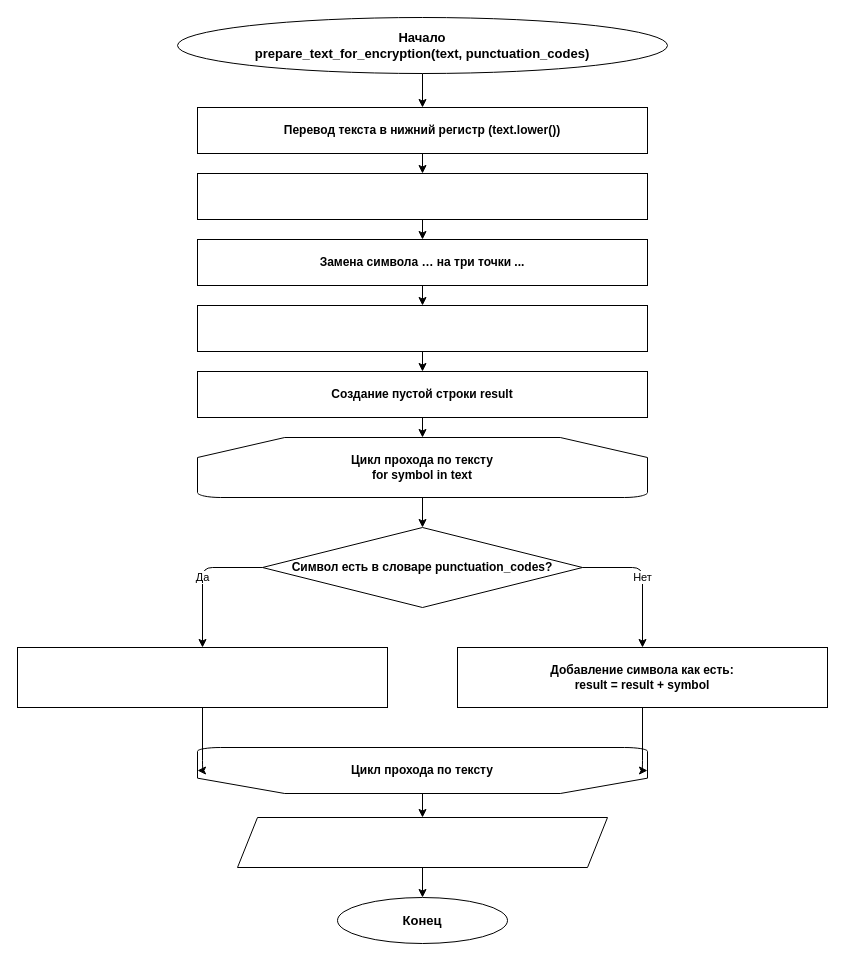
Some shapes in this 845 by 961 pixel diagram are drawn without their labels. The centre of each missing label's shape, as x and y in pixels:
Возврат строки result: pixel 422 842
Добавление к result кода знака: result = result + punctuation_codes[symbol]: pixel 202 677
Замена ... на тчктчктчк: pixel 422 328
Замена ё на е: pixel 422 196
